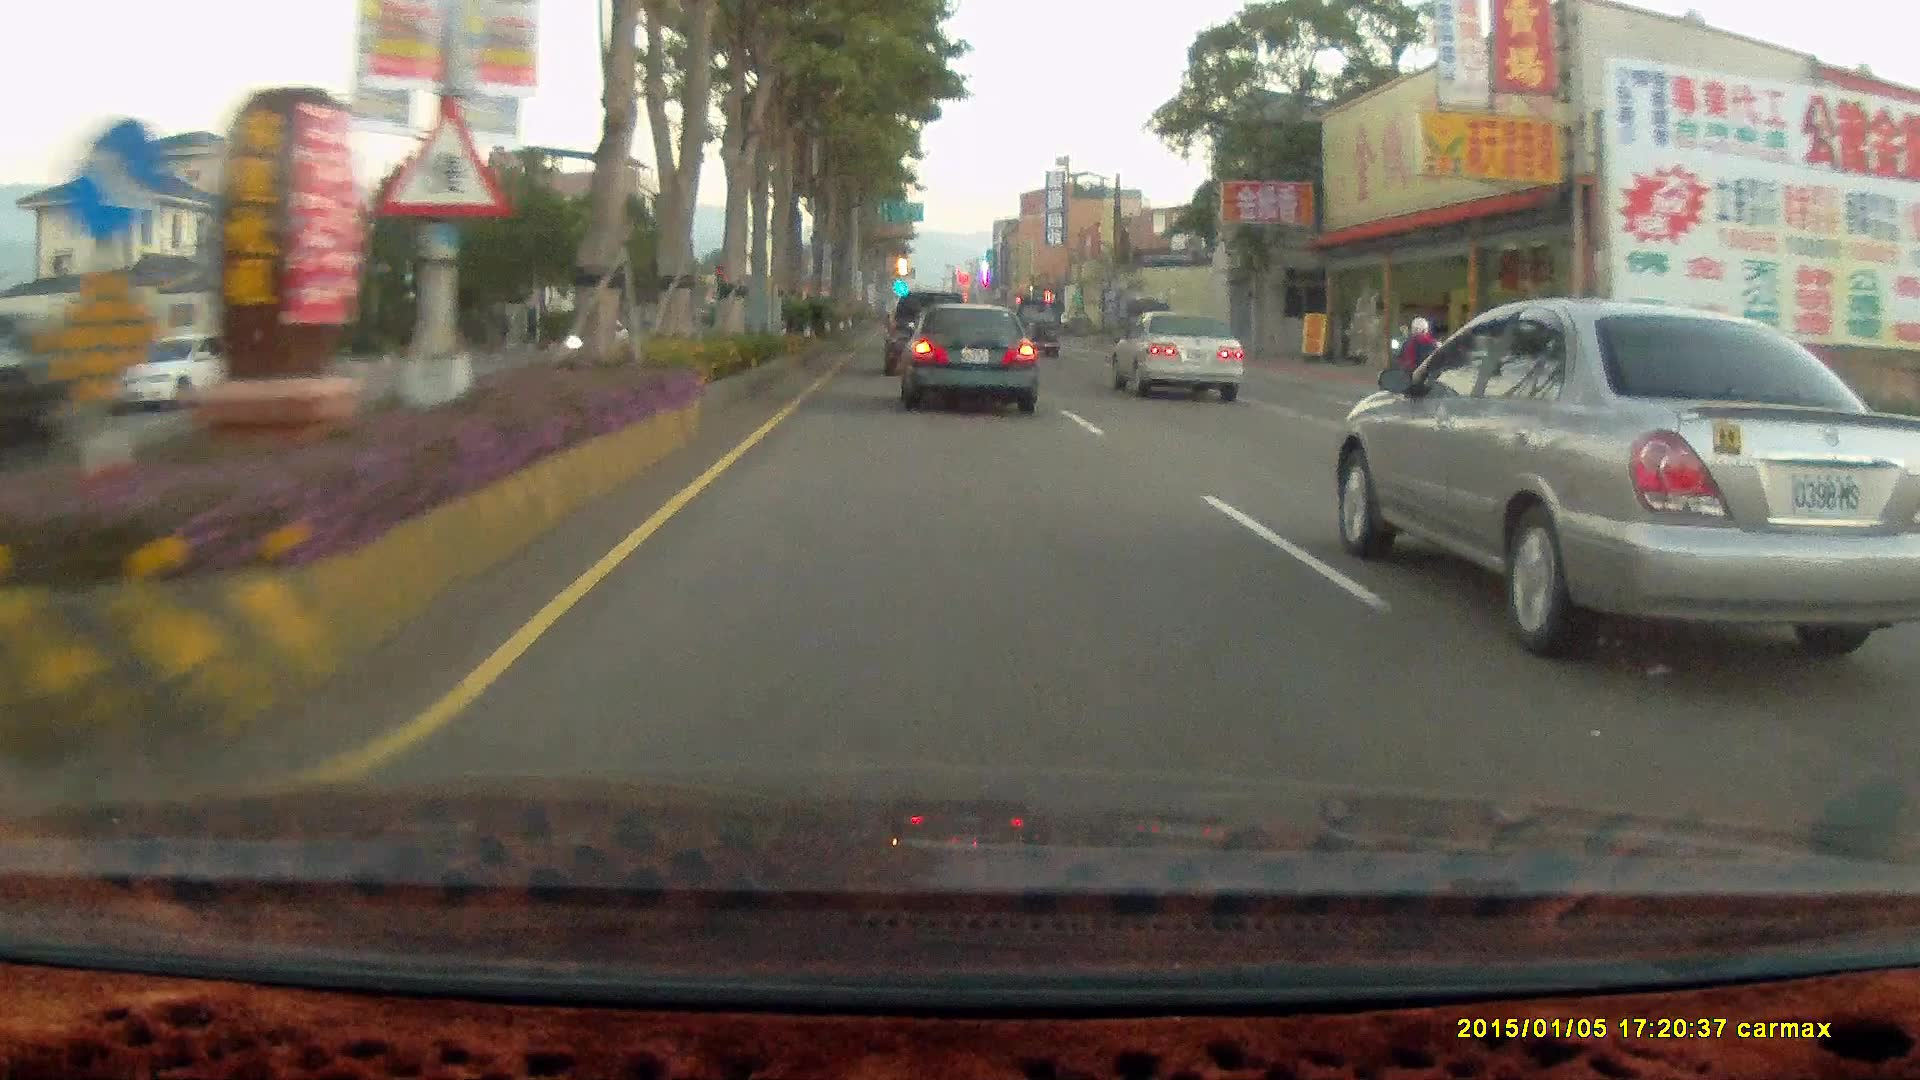rider: (1389, 309, 1453, 429), (1391, 316, 1448, 425)
vehicle: (1342, 289, 1920, 637), (0, 305, 88, 531), (897, 299, 1044, 419), (1, 308, 111, 470), (896, 301, 1039, 413), (74, 325, 260, 400), (98, 332, 263, 413), (1106, 308, 1243, 399), (1122, 302, 1254, 392), (883, 290, 973, 383), (881, 292, 964, 377), (1006, 293, 1060, 358)
